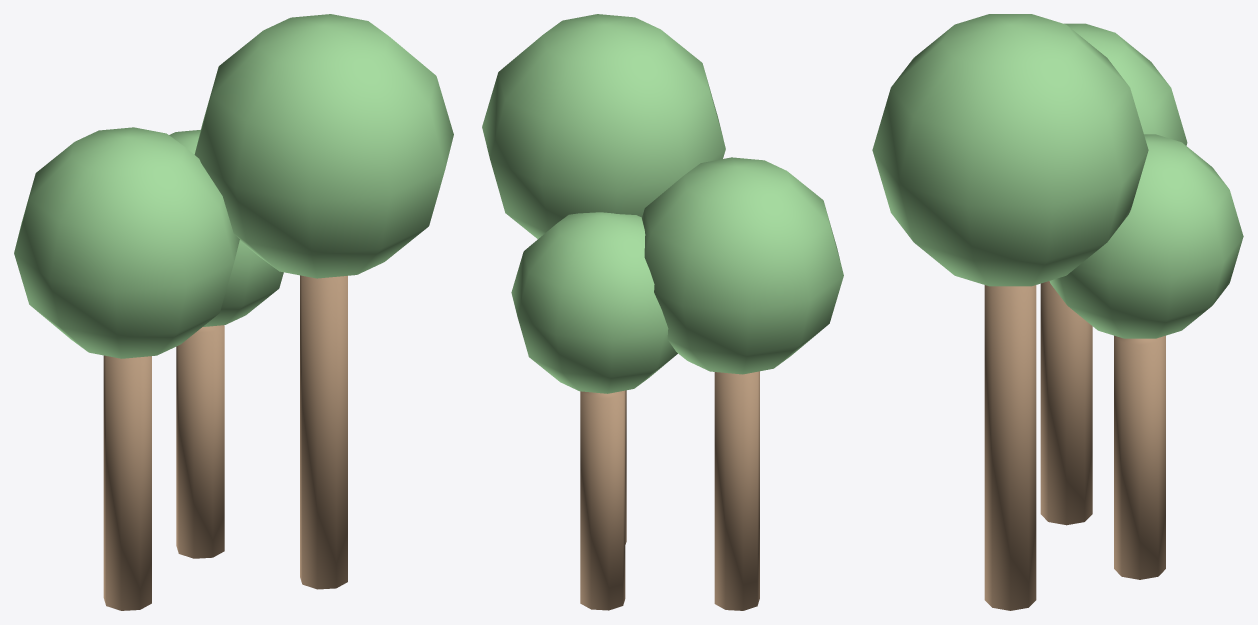
Rendered from cozy_tree_cluster_A.glb.
3 renders of one model, left to right at view 1: azimuth 30°, elevation 25°; view 2: azimuth 150°, elevation 25°; view 3: azimuth 270°, elevation 25°, orthographic. The views are drawn at different scales.
Parts seen in each view (by area): view 1: C1, C0, T1, T0, T2, C2; view 2: C1, C0, C2, T0, T2; view 3: C1, C2, T1, T2, T0, C0.
Boxes of the visible parts, left/top/right/bottom form: C1: left=194, top=14, right=453, bottom=278; C0: left=14, top=127, right=239, bottom=358; T1: left=300, top=275, right=347, bottom=589; T0: left=103, top=355, right=151, bottom=610; T2: left=176, top=325, right=224, bottom=558; C2: left=169, top=129, right=283, bottom=326; C1: left=482, top=14, right=725, bottom=238; C0: left=642, top=157, right=843, bottom=374; C2: left=511, top=212, right=677, bottom=393; T0: left=714, top=371, right=759, bottom=610; T2: left=580, top=390, right=625, bottom=610; C1: left=872, top=14, right=1148, bottom=286; C2: left=1049, top=134, right=1243, bottom=338; T1: left=984, top=285, right=1036, bottom=610; T2: left=1114, top=335, right=1165, bottom=579; T0: left=1040, top=281, right=1092, bottom=525; C0: left=1064, top=23, right=1187, bottom=145.
Size of the model in its own units: 1.04 by 1.47 by 0.86.
